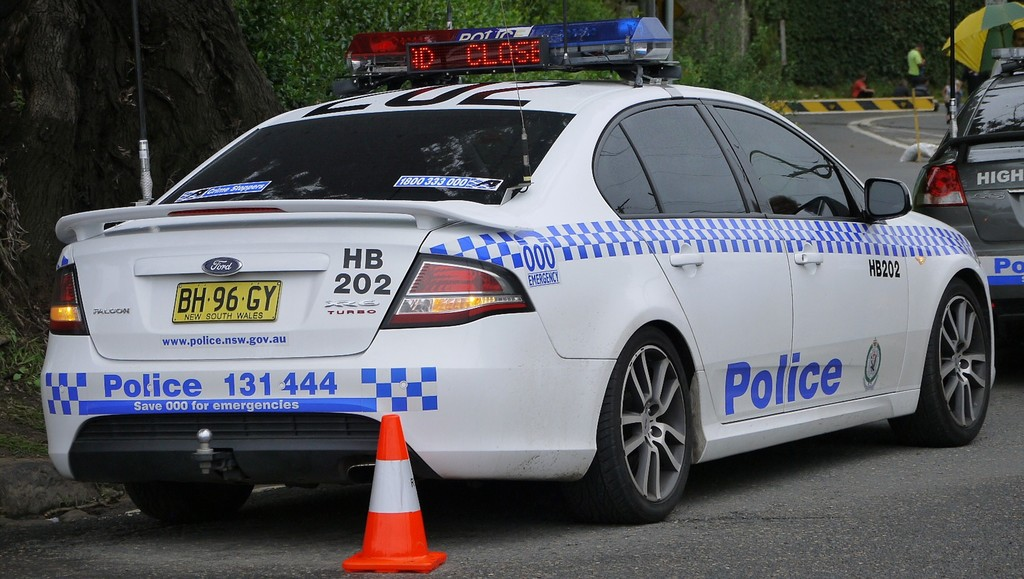Car: (36, 0, 1002, 525), (907, 56, 1023, 320)
